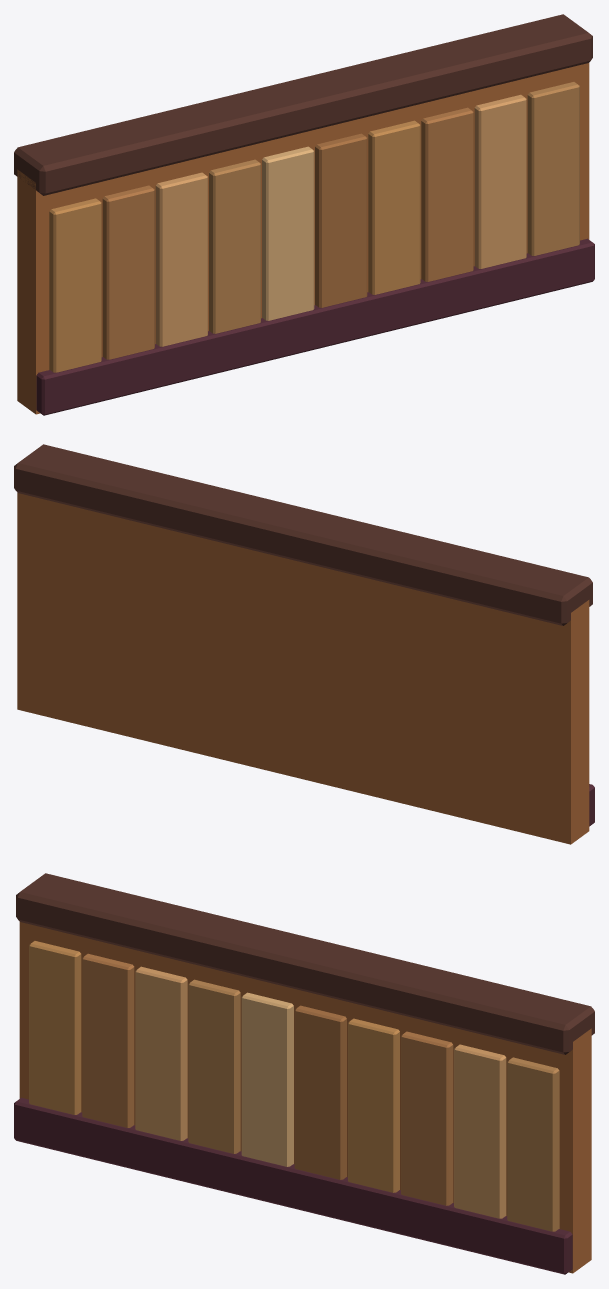
File: wall_half.glb
The picture shows the model from 3 angles, top to bottom: view 1: azimuth 30°, elevation 25°; view 2: azimuth 150°, elevation 25°; view 3: azimuth 330°, elevation 25°; orthographic projection.
Parts seen in each view (by area): view 1: Corrimão, Rodapé, Corpo, Painel do lambril, Painel do lambril.001, Painel do lambril.002, Painel do lambril.007, Painel do lambril.008, Painel do lambril.004, Painel do lambril.005, Painel do lambril.006, Painel do lambril.009 (+1 smaller); view 2: Corpo, Corrimão; view 3: Corrimão, Rodapé, Corpo, Painel do lambril.008, Painel do lambril.009, Painel do lambril.001, Painel do lambril.002, Painel do lambril.007, Painel do lambril.005, Painel do lambril, Painel do lambril.003, Painel do lambril.004 (+1 smaller).
Part boxes in pixels (box(x1,y1,x2,y2)): Corrimão: box(14, 14, 592, 195); Rodapé: box(36, 238, 594, 415); Corpo: box(17, 63, 589, 414); Painel do lambril: box(49, 198, 101, 372); Painel do lambril.001: box(102, 185, 154, 359); Painel do lambril.002: box(155, 172, 207, 346); Painel do lambril.007: box(421, 107, 473, 281); Painel do lambril.008: box(474, 94, 526, 268); Painel do lambril.004: box(262, 146, 314, 320); Painel do lambril.005: box(315, 133, 367, 307); Painel do lambril.006: box(368, 120, 420, 294); Painel do lambril.009: box(527, 82, 579, 255); Corpo: box(17, 493, 589, 844); Corrimão: box(14, 444, 592, 625); Corrimão: box(16, 873, 594, 1054); Rodapé: box(14, 1097, 572, 1274); Corpo: box(19, 922, 591, 1273); Painel do lambril.008: box(454, 1044, 506, 1218); Painel do lambril.009: box(507, 1057, 559, 1231); Painel do lambril.001: box(82, 953, 134, 1127); Painel do lambril.002: box(135, 966, 187, 1140); Painel do lambril.007: box(401, 1031, 453, 1205); Painel do lambril.005: box(294, 1005, 346, 1179); Painel do lambril: box(29, 941, 81, 1114); Painel do lambril.003: box(188, 979, 240, 1153); Painel do lambril.004: box(241, 992, 293, 1166).
Bounding box in the file's own units: 2.5 × 1.08 × 0.2435.
